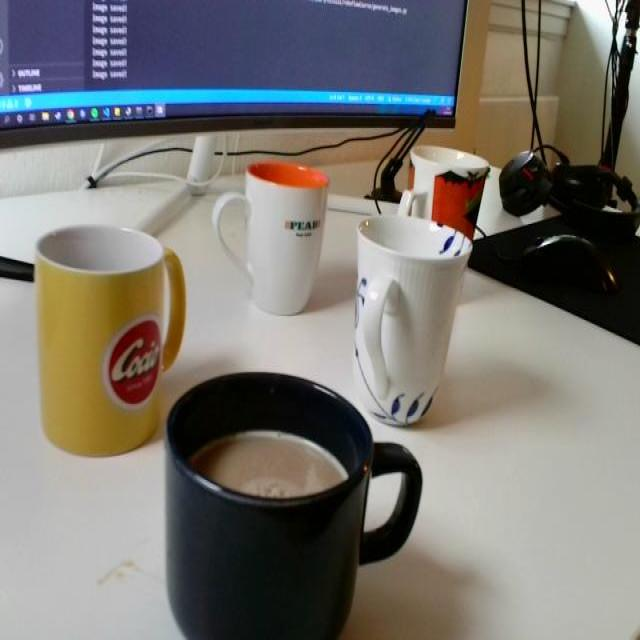cup: (155, 346, 424, 640), (21, 208, 188, 465), (355, 207, 476, 440), (206, 138, 339, 324), (395, 133, 495, 247)
